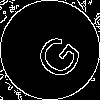G: (25, 25, 85, 84)
